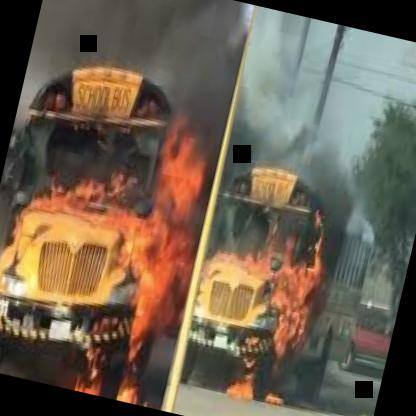fire: (0, 43, 231, 409), (203, 197, 333, 367)
